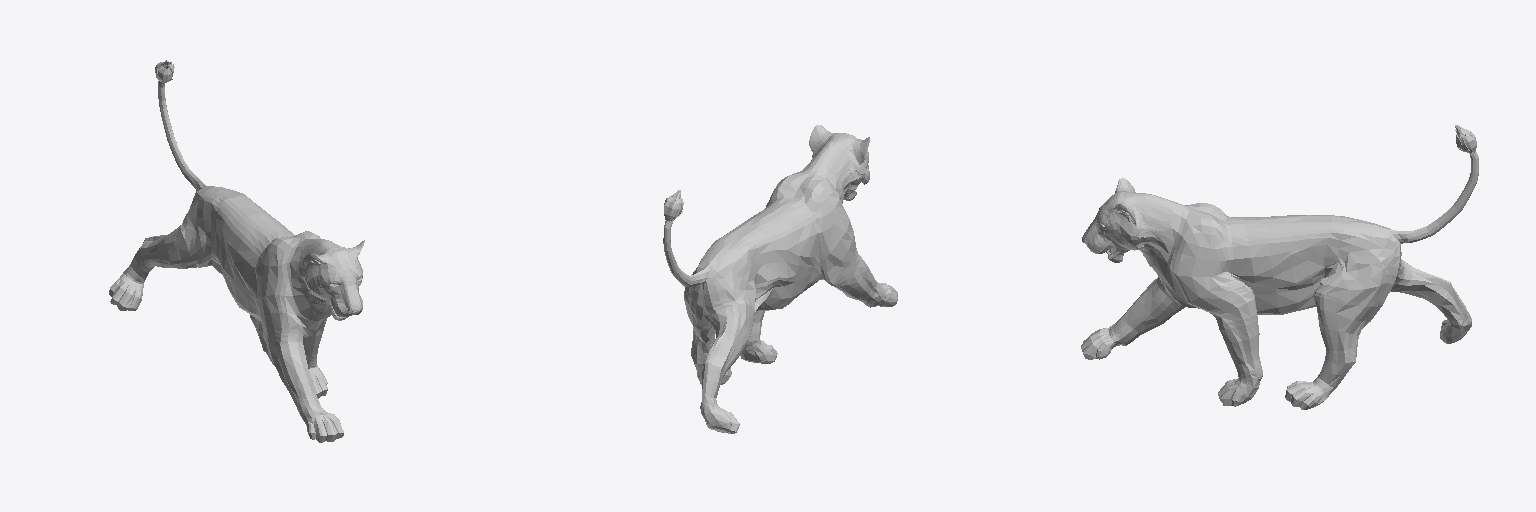
The model's file is tiger2.obj.
3 renders of one model, left to right at view 1: azimuth 30°, elevation 25°; view 2: azimuth 150°, elevation 25°; view 3: azimuth 270°, elevation 25°, orthographic.
Size of the model in its own units: 166 by 362 by 500.